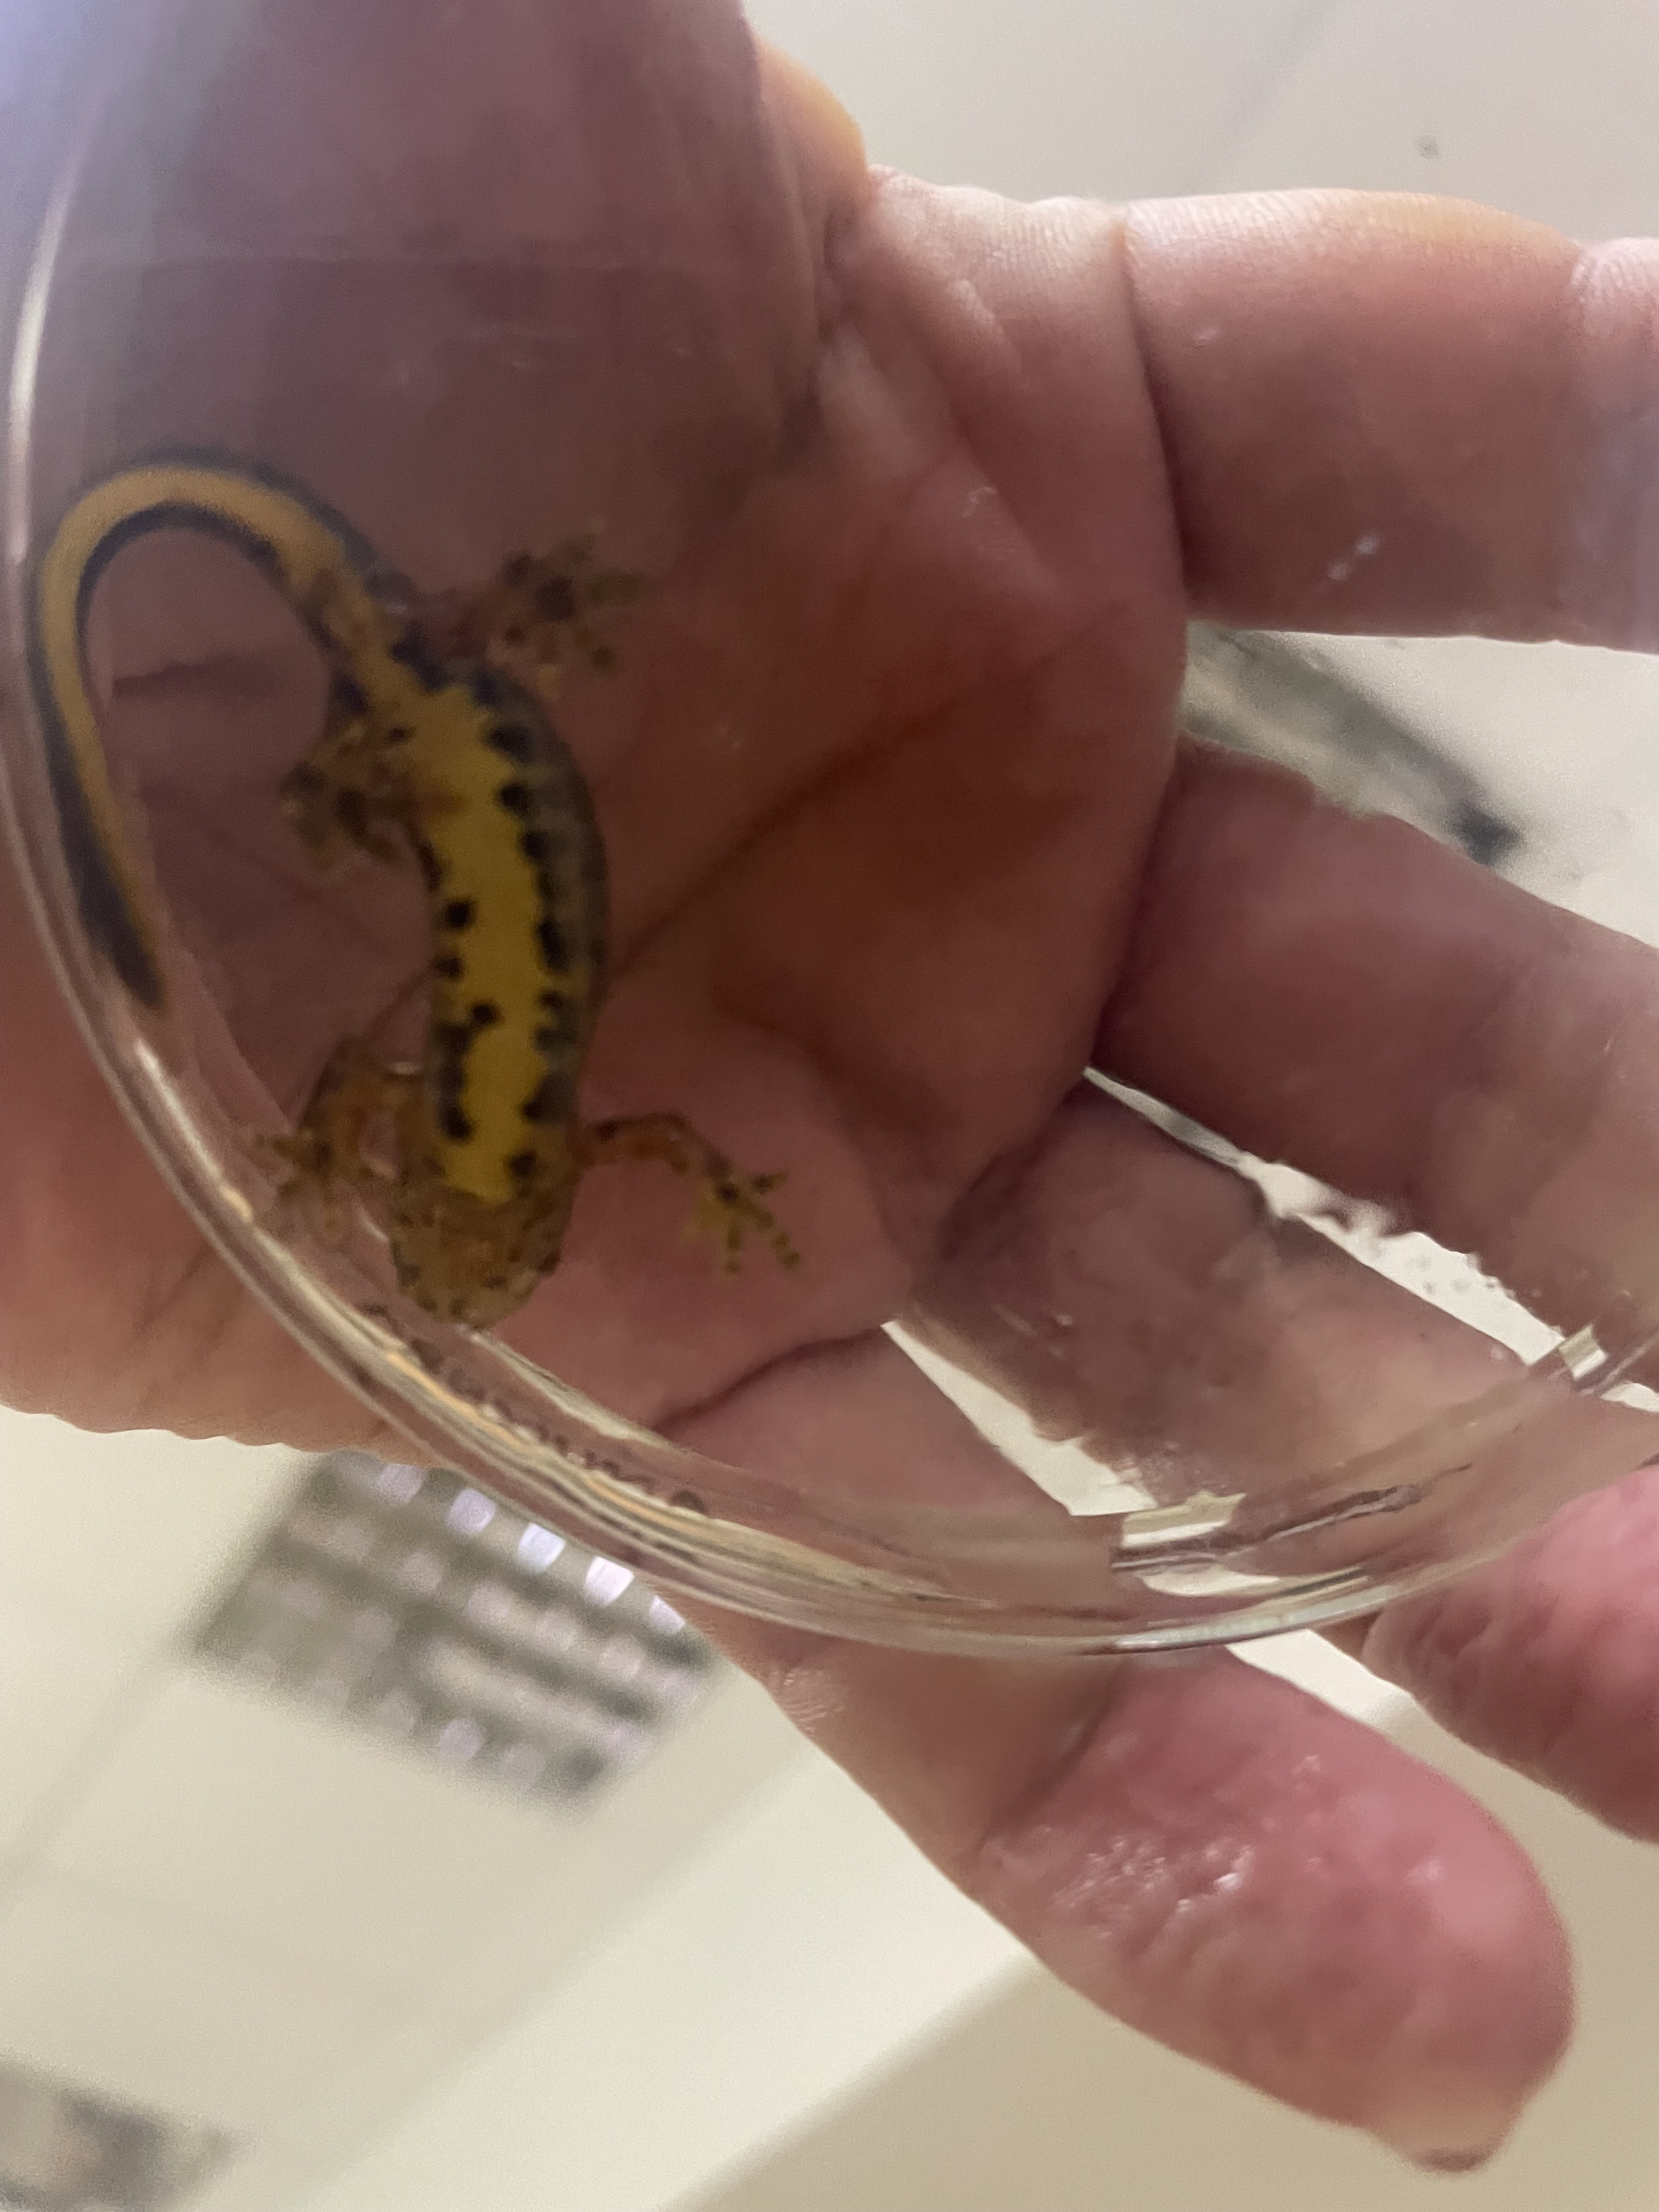Karelin_newt: (357, 672, 608, 1120)
